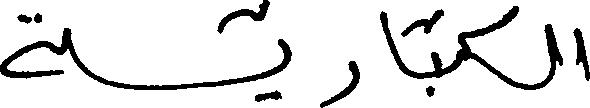X: (457, 1, 516, 92), (0, 8, 70, 83), (379, 6, 408, 80), (321, 56, 360, 107), (432, 4, 443, 100), (573, 23, 589, 85), (544, 19, 556, 91), (277, 34, 289, 104)
